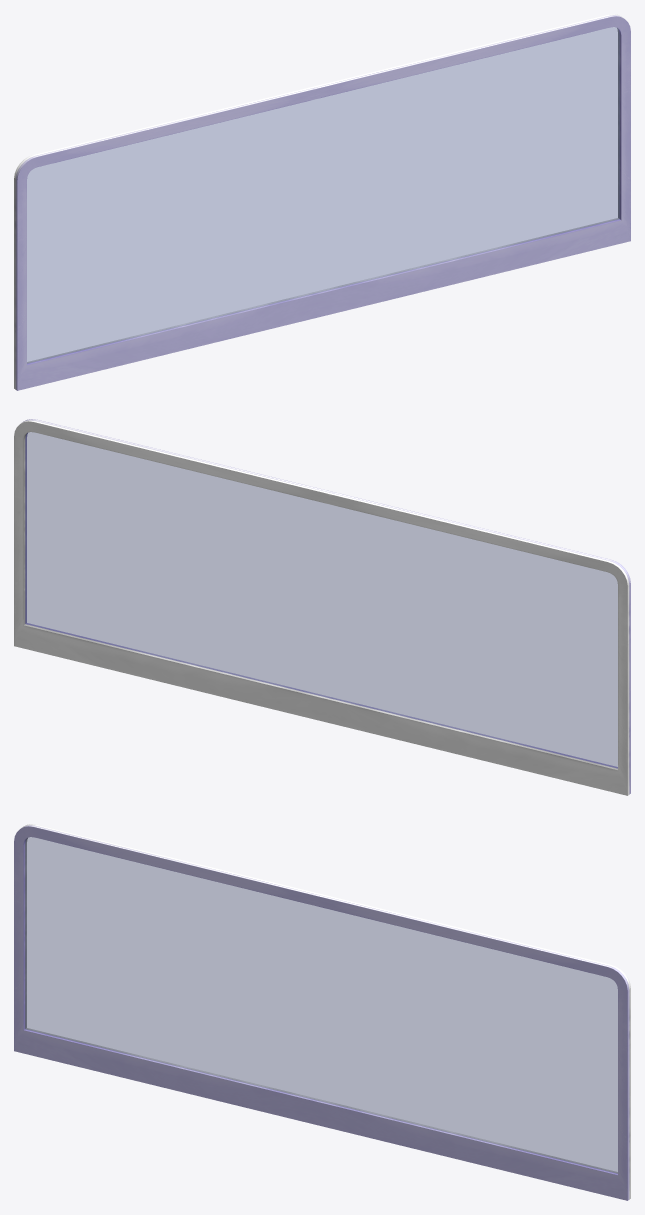
The model's file is slidingDoor-big.glb.
3 views of the same model, one above another, from view 1: azimuth 30°, elevation 25°; view 2: azimuth 150°, elevation 25°; view 3: azimuth 330°, elevation 25° (orthographic).
Visible parts, largest first — view 1: bigDoor; view 2: bigDoor; view 3: bigDoor.
Boxes of the visible parts, x1,y1,x2,y2 form: bigDoor: [14, 14, 630, 390]; bigDoor: [14, 419, 630, 795]; bigDoor: [14, 824, 630, 1200].
Size of what is drawn, in the model's own units: 10.34 by 3.69 by 0.0958.
2 materials, 1 textured.
